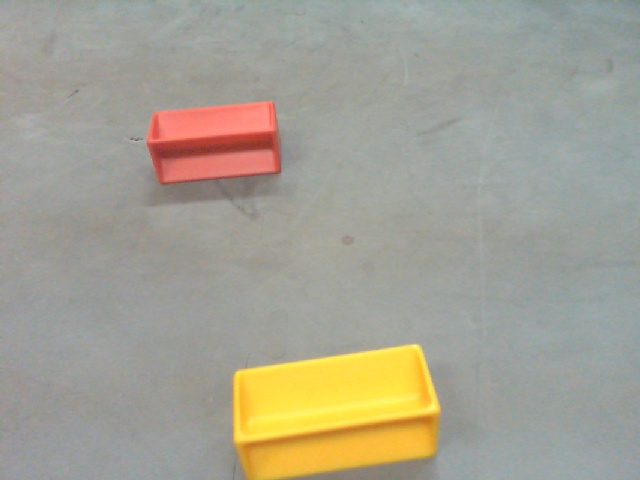RedSample: (147, 100, 281, 182)
YellowSample: (230, 338, 441, 480)
